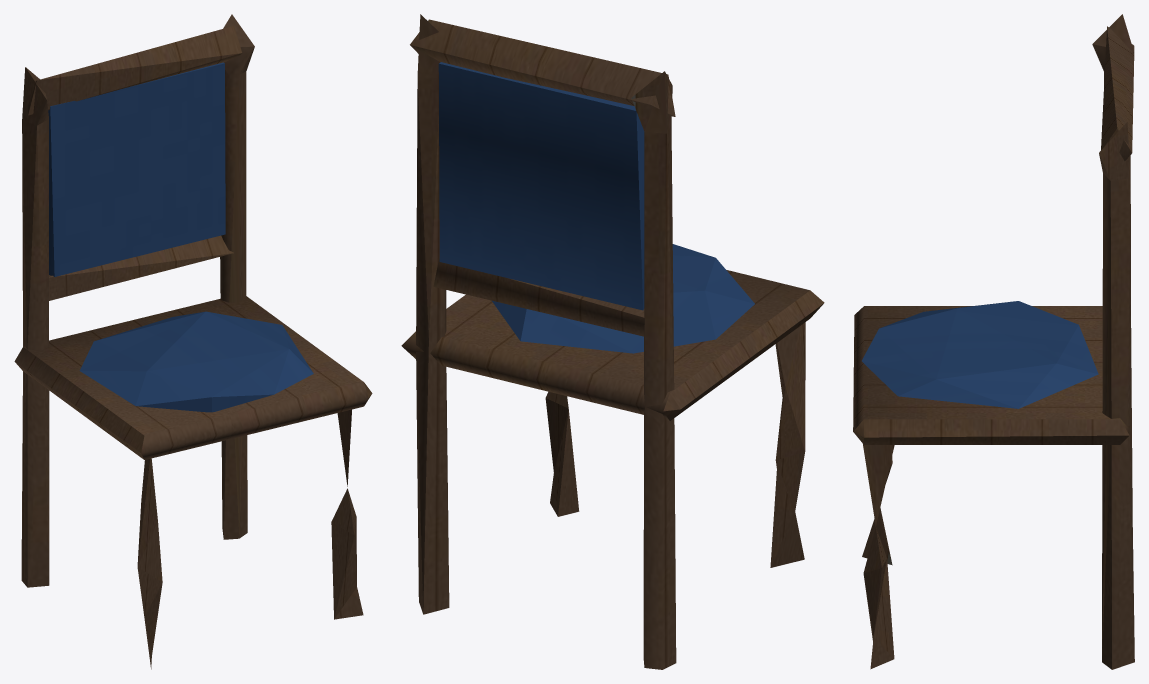
The model's file is chair_lod2.glb.
3 views of the same model, side by side, from view 1: azimuth 30°, elevation 25°; view 2: azimuth 150°, elevation 25°; view 3: azimuth 270°, elevation 25° (orthographic). The views are drawn at different scales.
Visible parts, largest first — view 1: chair; view 2: chair; view 3: chair.
Part boxes in pixels (left/top/right/bottom): chair: left=14, top=14, right=372, bottom=669; chair: left=401, top=14, right=824, bottom=669; chair: left=853, top=14, right=1134, bottom=669.
Size of the model in its own units: 0.5073 by 1.05 by 0.4951.
1 material, 1 textured.
